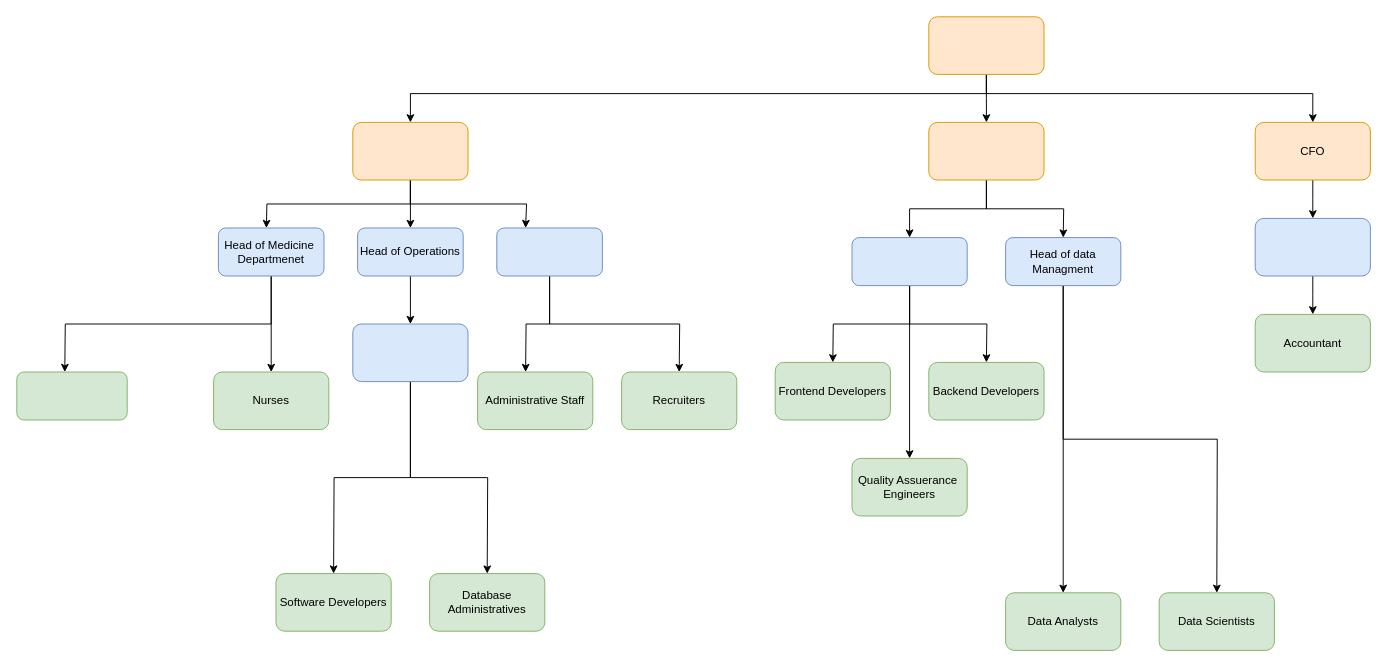
The diagram is 1387 pixels wide and 667 high, and some of its shapes have lost their labels. The centre of each missing label's shape, as x and y in pixels:
CMO: pixel 410 150
CTO: pixel 986 150
Doctors: pixel 71 395
Finance Manager: pixel 1312 246
Head of Software Development: pixel 909 261
HR Manager: pixel 549 251
IT Manager: pixel 410 352
President CEO: pixel 986 45
